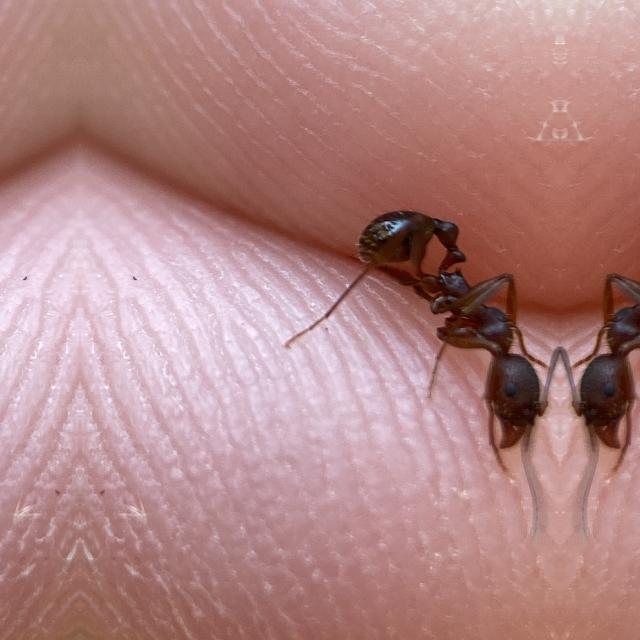Apheanogaster: (339, 184, 559, 468), (560, 184, 640, 468)
